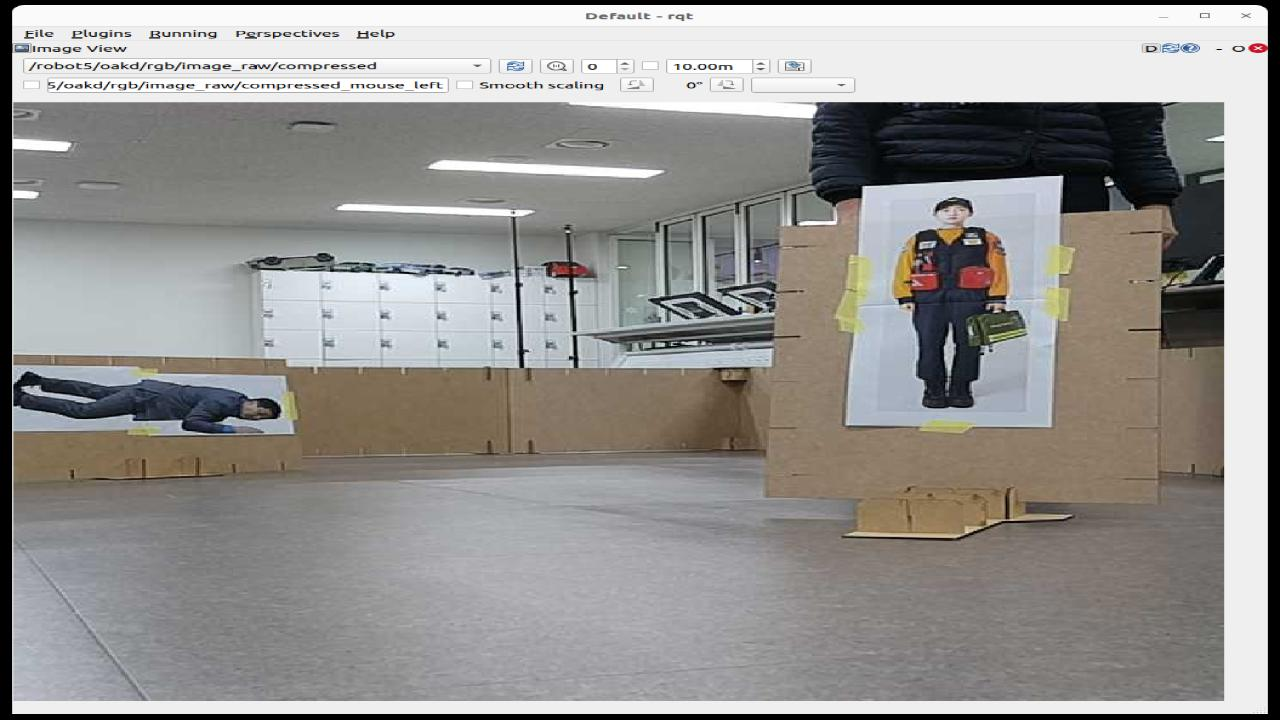Patient: (15, 372, 279, 434)
Responder: (893, 198, 1007, 408)
